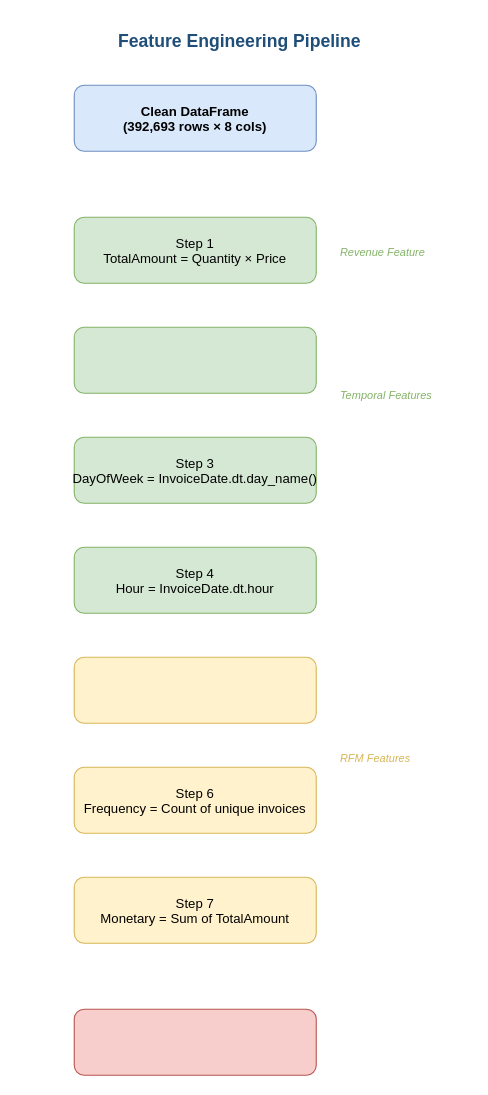
The diagram is 488 pixels wide and 1095 high, and some of its shapes have lost their labels. Each missing label, with the box of its shape:
Enriched DataFrame (392,693 rows × 12 cols): (73, 1008, 316, 1075)
Step 2 Month = InvoiceDate.dt.month: (73, 326, 316, 393)
Step 5 Recency = Days since last purchase: (73, 656, 316, 723)
